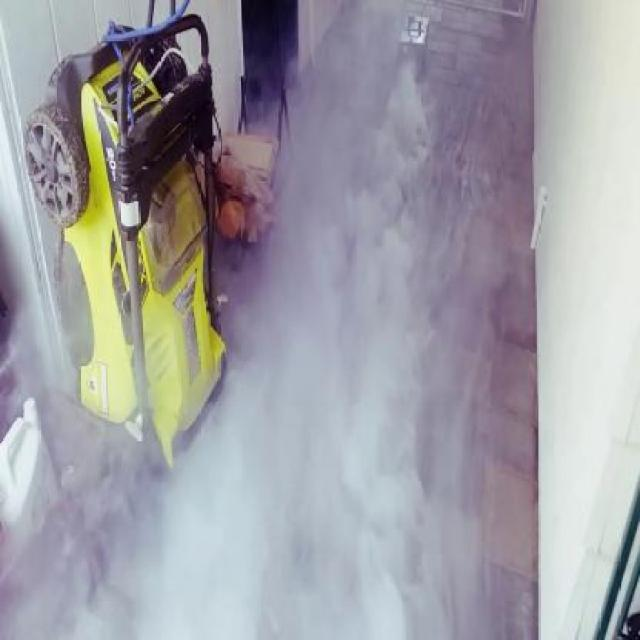smoke: (285, 46, 490, 628), (33, 347, 438, 640), (350, 9, 444, 640)
